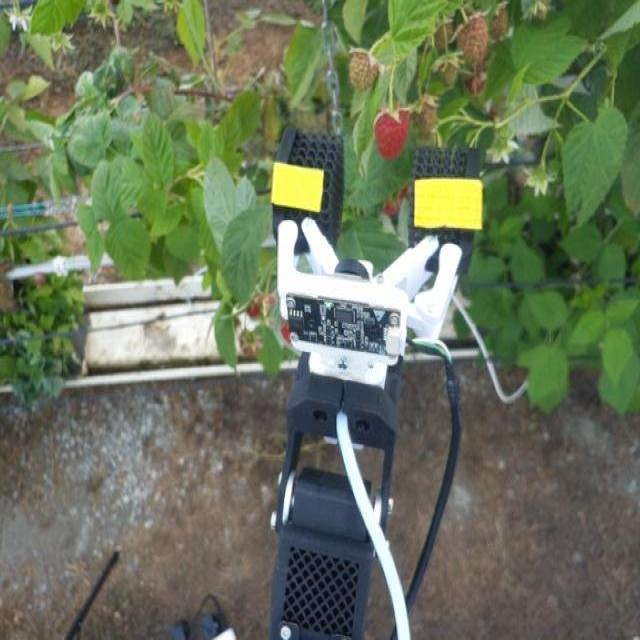Riped berries: (371, 104, 411, 160)
